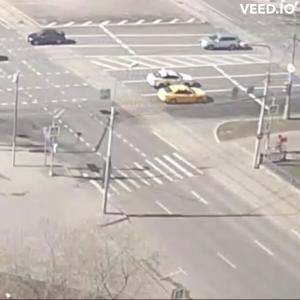car: (158, 84, 209, 105), (149, 70, 194, 91), (202, 35, 251, 53), (30, 31, 77, 47)
